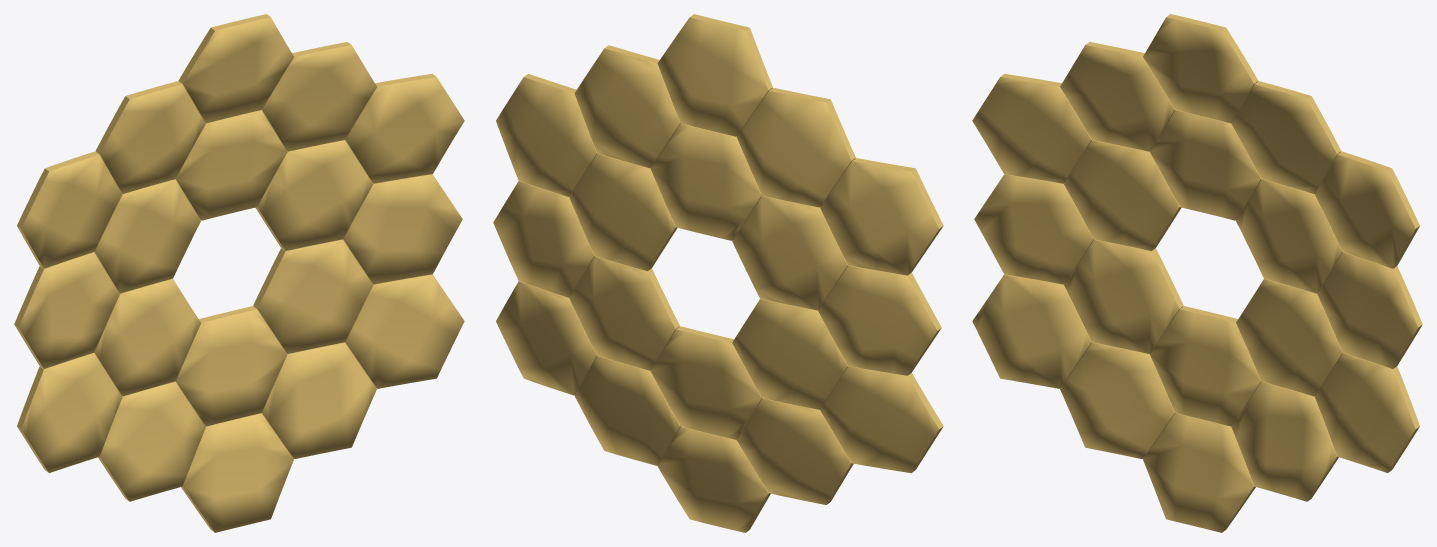
Rendered from gold_plating.gltf.
3 views of the same model, side by side, from view 1: azimuth 30°, elevation 25°; view 2: azimuth 150°, elevation 25°; view 3: azimuth 330°, elevation 25° (orthographic).
Visible parts, largest first — view 1: Gold Plating; view 2: Gold Plating; view 3: Gold Plating.
Part boxes in pixels (x1,y1,x2,y2): Gold Plating: (14, 14, 464, 532); Gold Plating: (493, 14, 943, 532); Gold Plating: (972, 14, 1422, 532).
Size of the model in its own units: 5.77 by 6.23 by 0.4134.
